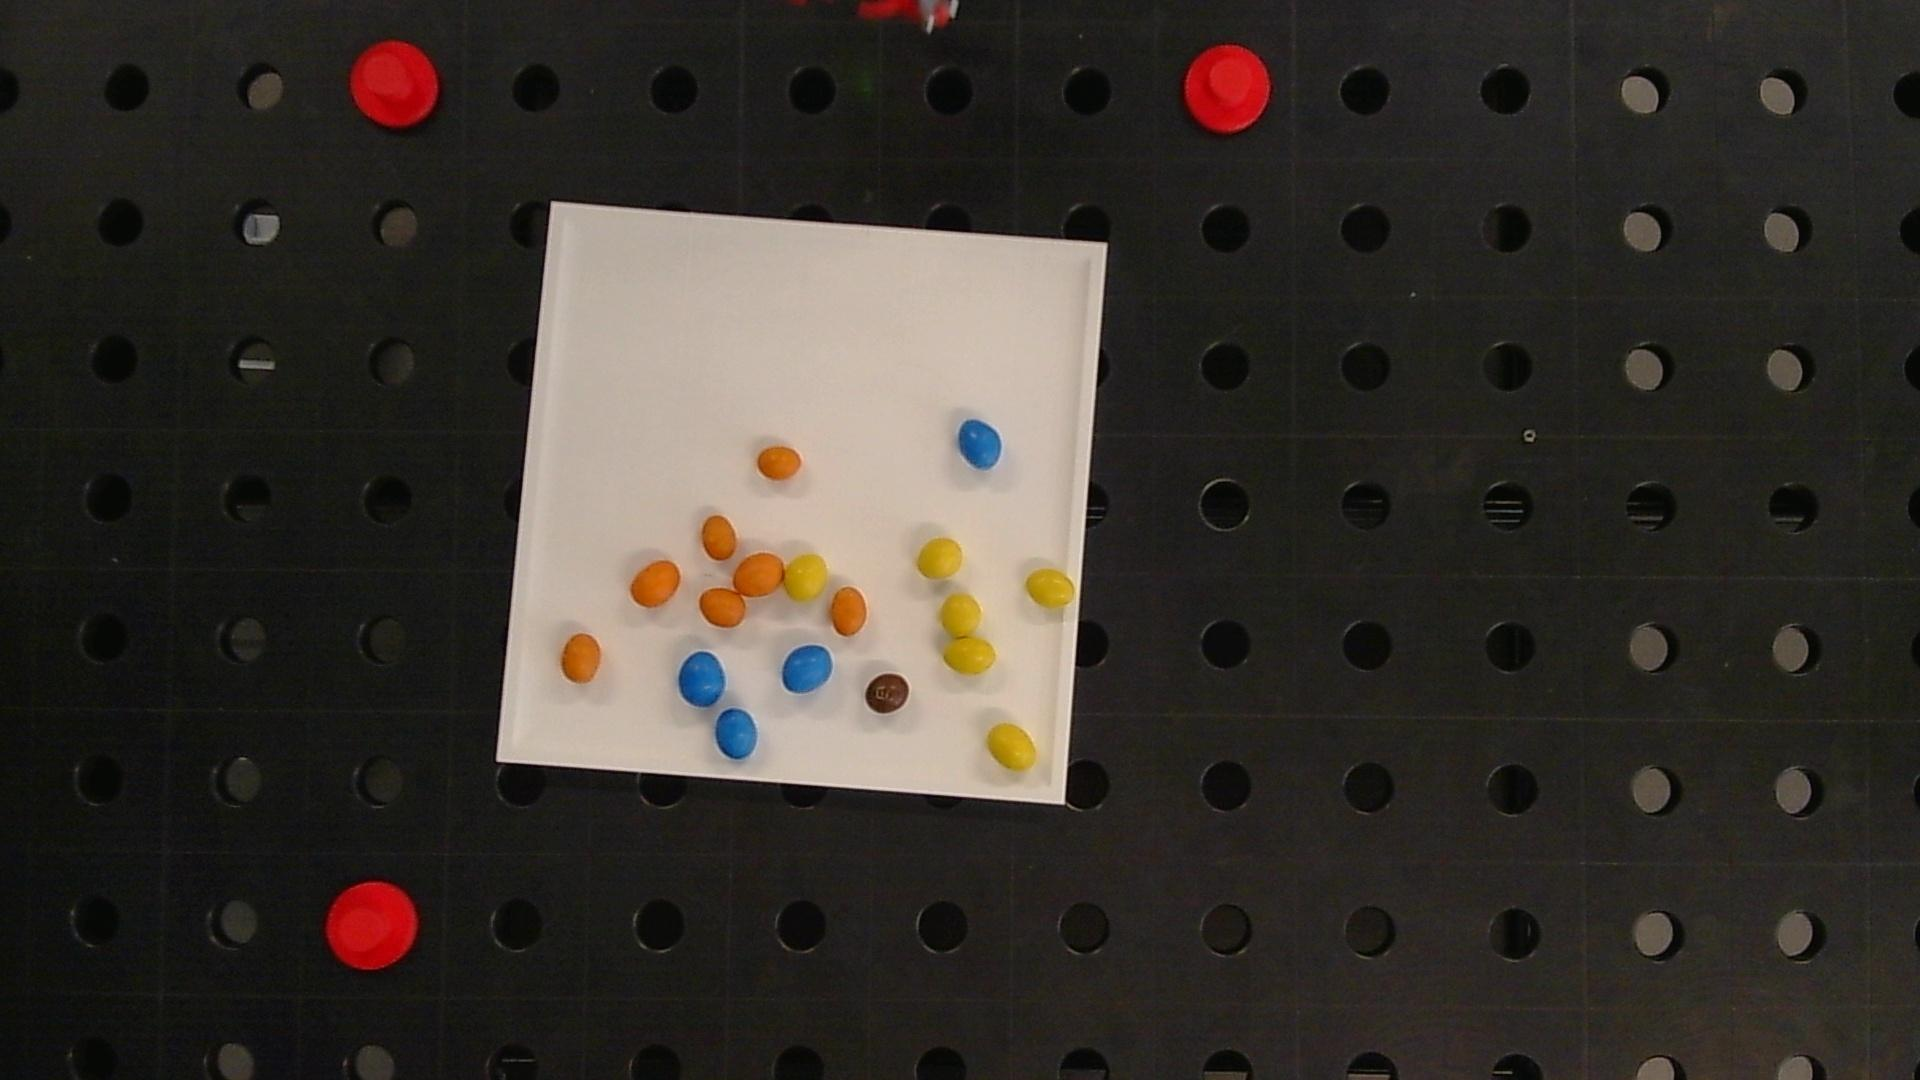blue: (679, 651, 725, 707), (782, 645, 832, 694), (959, 418, 1002, 469), (715, 709, 758, 758)
brown: (865, 673, 910, 713)
orange: (630, 559, 680, 608), (735, 553, 783, 596), (560, 633, 601, 683), (699, 588, 745, 628), (831, 587, 866, 636), (702, 514, 737, 559), (760, 447, 802, 479)
yellow: (986, 724, 1038, 770), (785, 554, 828, 600), (1026, 570, 1076, 608), (918, 538, 963, 580), (944, 638, 997, 674), (942, 595, 984, 638)
